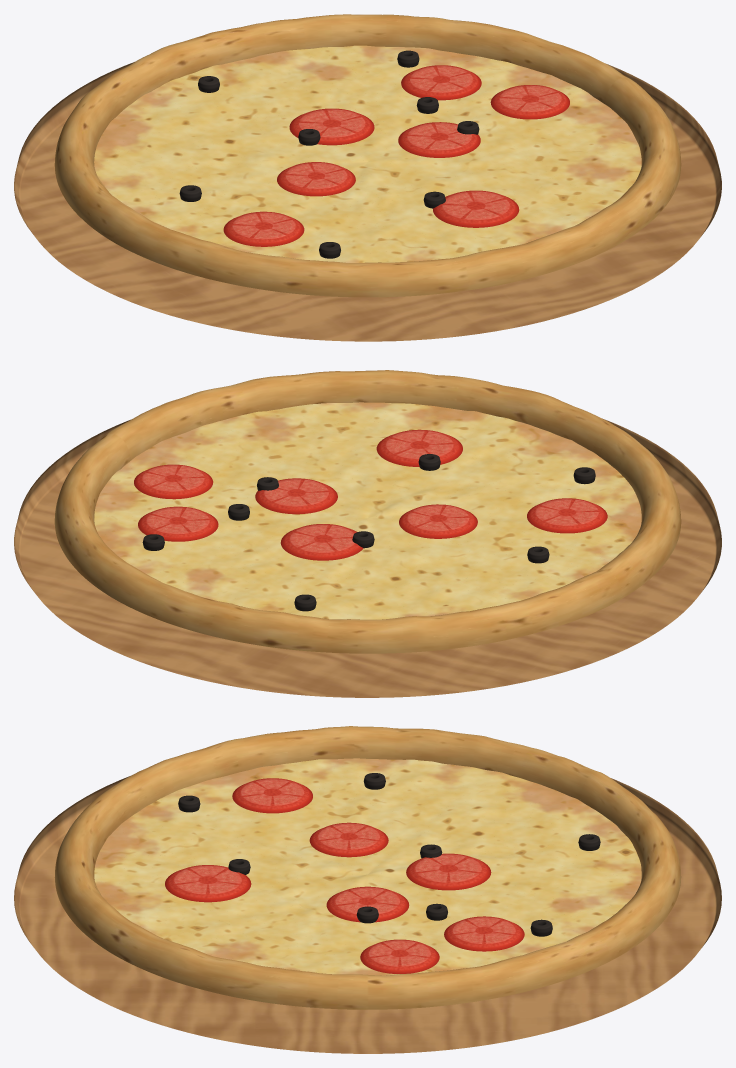
File: pizza-mussarela.glb
The picture shows the model from 3 angles, top to bottom: view 1: azimuth 30°, elevation 25°; view 2: azimuth 150°, elevation 25°; view 3: azimuth 270°, elevation 25°; orthographic projection.
Parts seen in each view (by area): view 1: pizza-mussarela; view 2: pizza-mussarela; view 3: pizza-mussarela.
Part boxes in pixels (x1,y1,x2,y2): pizza-mussarela: (14,14,721,341); pizza-mussarela: (14,370,721,697); pizza-mussarela: (14,726,721,1053).
Bounding box in the file's own units: 0.432 × 0.0398 × 0.432.
Materials: 5 (4 with a texture image).
